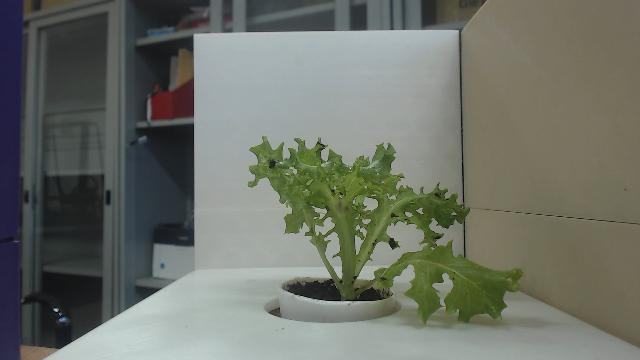Vegetative Stage: (245, 133, 522, 326)
